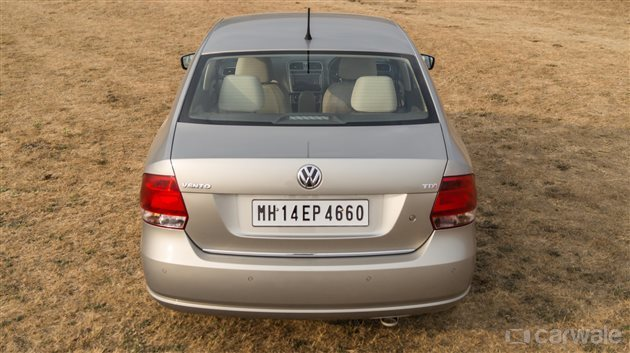number_plate: (250, 186, 374, 233)
